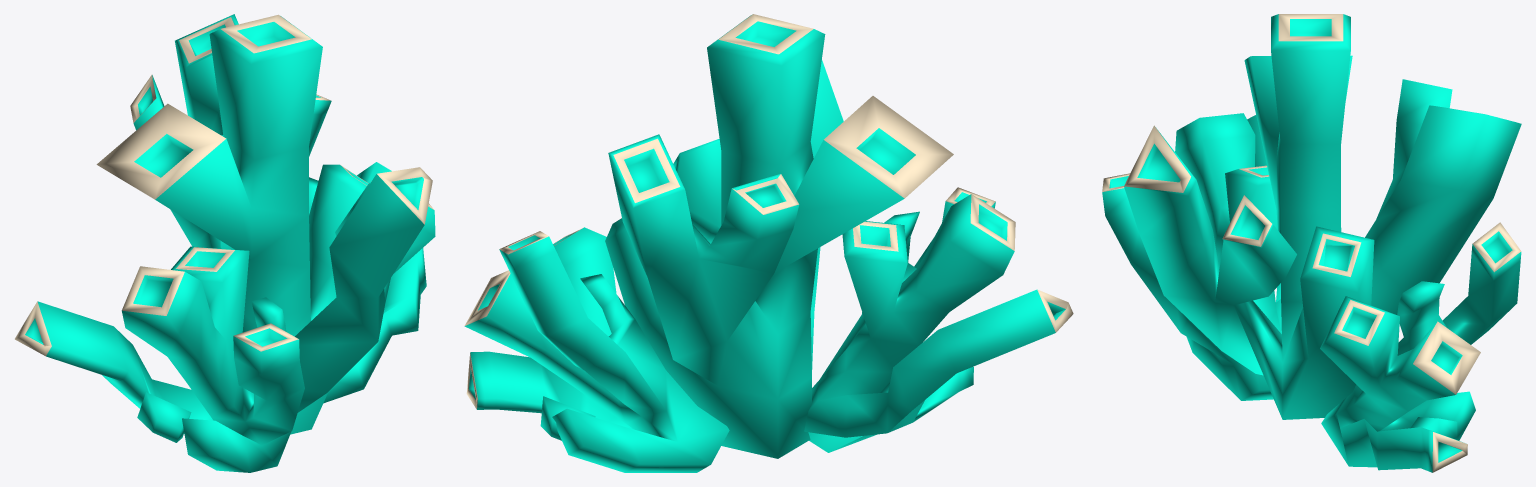
The model's file is coral2_green.glb.
3 views of the same model, side by side, from view 1: azimuth 30°, elevation 25°; view 2: azimuth 150°, elevation 25°; view 3: azimuth 270°, elevation 25° (orthographic). The views are drawn at different scales.
Visible parts, largest first — view 1: Cube; view 2: Cube; view 3: Cube.
Boxes of the visible parts, x1,y1,x2,y2 form: Cube: (15, 14, 435, 472); Cube: (464, 14, 1073, 472); Cube: (1102, 14, 1521, 472).
Bounding box in the file's own units: 18.01 × 14.6 × 13.91.
